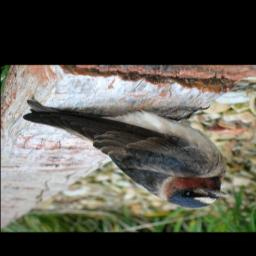Swallow: (19, 98, 234, 211)
